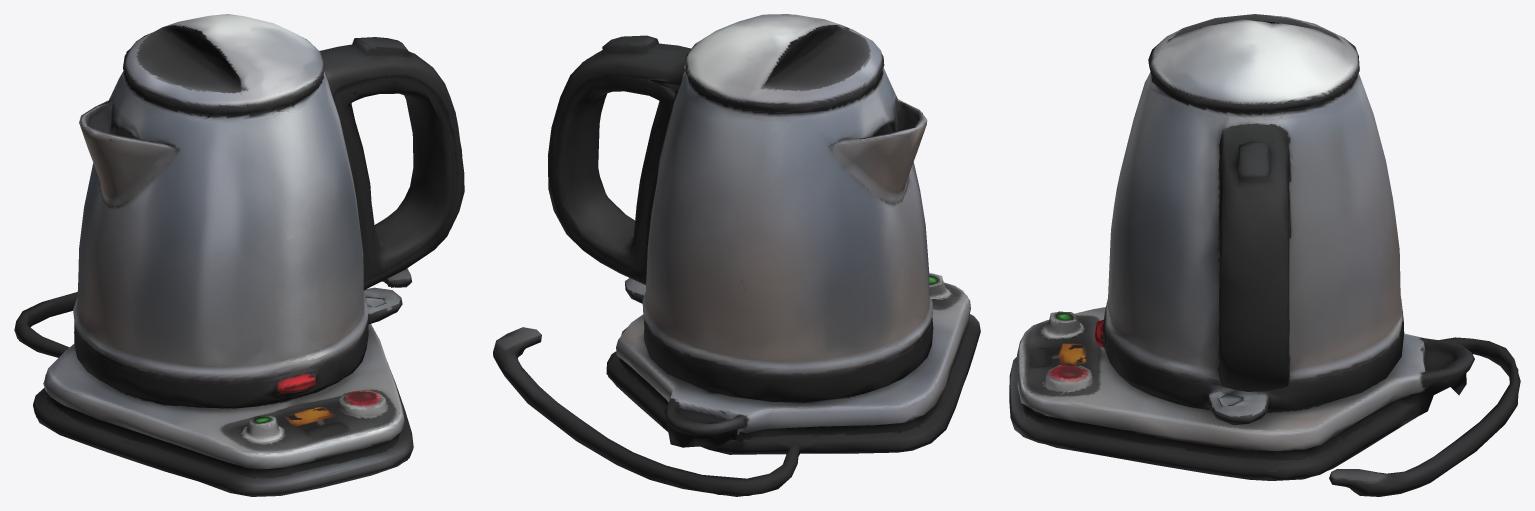
Rendered from teakitchen_KettleStation.glb.
3 views of the same model, side by side, from view 1: azimuth 30°, elevation 25°; view 2: azimuth 150°, elevation 25°; view 3: azimuth 270°, elevation 25° (orthographic). The views are drawn at different scales.
Visible parts, largest first — view 1: world; view 2: world; view 3: world.
Boxes of the visible parts, x1,y1,x2,y2 form: world: [14, 14, 464, 496]; world: [493, 14, 980, 496]; world: [1009, 14, 1520, 496].
Size of the model in its own units: 0.9308 by 0.8112 by 1.
1 material, 1 textured.
